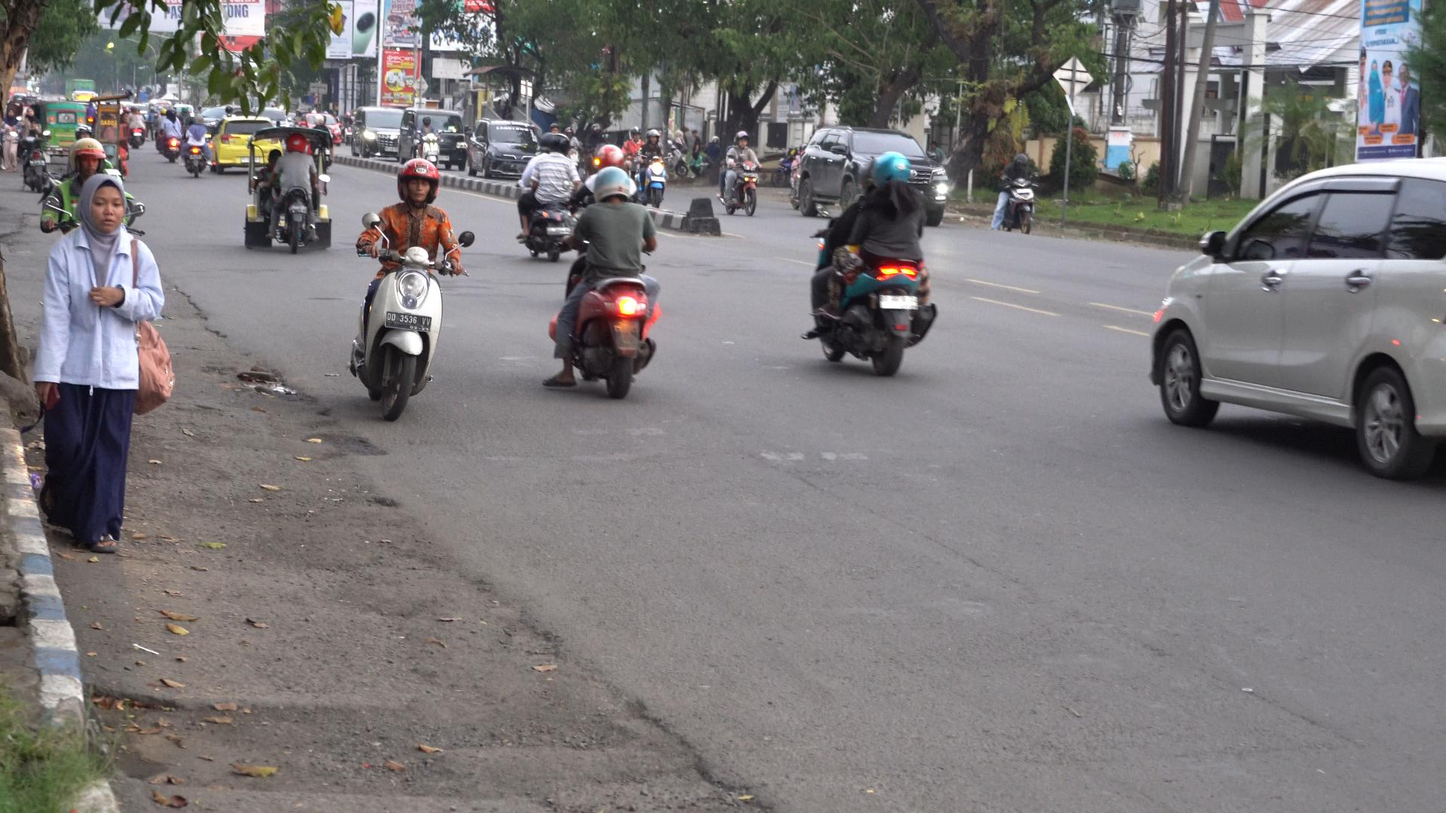number-plate: (378, 306, 433, 336)
